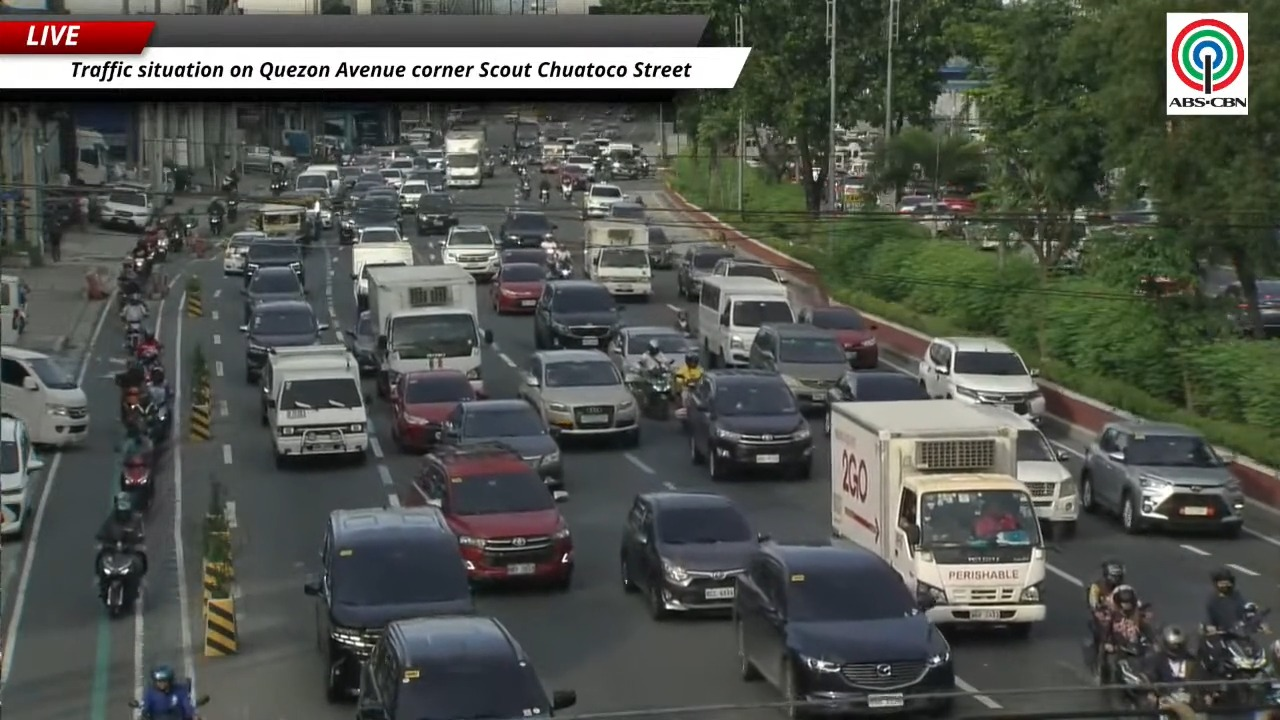car: (733, 542, 955, 716), (304, 507, 474, 702), (402, 443, 573, 589), (357, 616, 576, 719), (1080, 420, 1244, 536), (620, 491, 760, 619), (682, 369, 813, 479), (977, 406, 1079, 537), (517, 350, 640, 446), (441, 399, 563, 490), (916, 337, 1045, 420), (0, 344, 91, 447), (747, 323, 847, 407), (240, 300, 327, 383), (391, 369, 477, 451), (533, 280, 620, 349), (0, 416, 44, 536), (798, 306, 878, 369), (608, 326, 697, 378), (828, 370, 929, 405), (243, 267, 305, 321), (677, 244, 733, 300), (340, 191, 400, 243), (440, 225, 497, 279), (490, 262, 546, 313), (100, 184, 160, 231), (243, 240, 304, 286), (344, 310, 378, 374), (499, 211, 556, 247), (710, 257, 786, 283), (223, 231, 267, 274), (415, 192, 457, 235), (1222, 283, 1253, 335), (582, 183, 625, 219), (340, 180, 384, 212), (648, 225, 674, 269), (499, 248, 547, 269), (399, 180, 430, 212), (354, 225, 405, 244), (605, 201, 647, 222), (559, 164, 590, 190), (561, 154, 594, 178), (410, 170, 446, 192), (419, 148, 445, 173), (364, 185, 398, 203), (387, 151, 413, 174), (339, 166, 362, 190), (378, 168, 405, 188), (357, 171, 385, 187), (620, 110, 634, 122)
motorcycle: (1201, 610, 1275, 706), (1101, 634, 1152, 708), (1094, 629, 1153, 686), (97, 541, 140, 618), (120, 451, 153, 511), (636, 368, 673, 420), (673, 372, 700, 425), (146, 399, 171, 446), (133, 343, 161, 372), (124, 321, 143, 353), (151, 233, 169, 261), (129, 255, 150, 276), (675, 310, 691, 336), (182, 211, 198, 235), (269, 176, 288, 195), (208, 213, 223, 236), (221, 172, 237, 192), (226, 196, 238, 222), (138, 712, 179, 719), (638, 157, 652, 177), (561, 183, 573, 203), (520, 182, 532, 201), (540, 188, 549, 205), (498, 152, 508, 165)
truck: (830, 401, 1045, 634), (364, 264, 491, 397), (261, 344, 369, 466), (583, 220, 652, 298), (351, 242, 413, 310), (444, 131, 485, 187), (75, 127, 114, 185)
